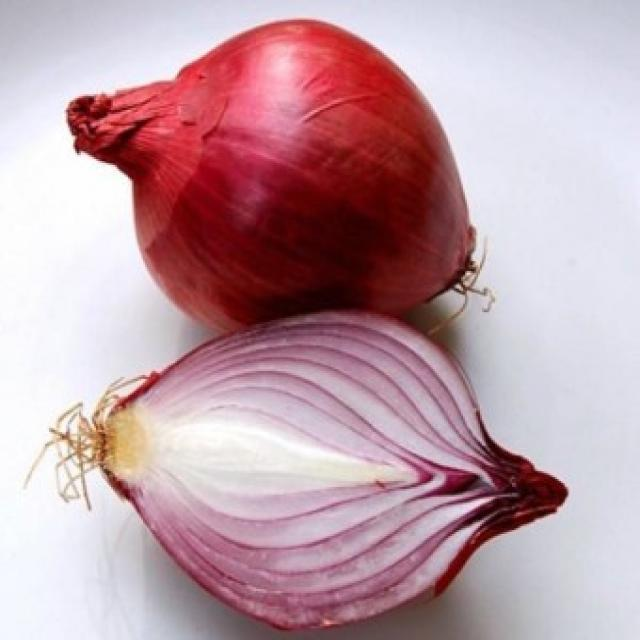Onion: (20, 299, 569, 640), (63, 18, 499, 340)
